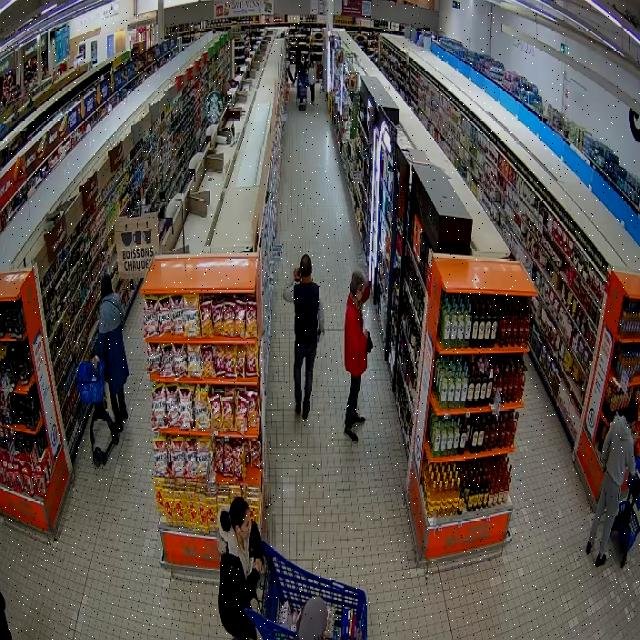article: (317, 332, 324, 343)
hands: (254, 558, 262, 573), (293, 268, 300, 281), (93, 355, 99, 368), (364, 329, 369, 340), (317, 329, 325, 335)
person: (586, 401, 638, 566), (283, 255, 324, 418), (219, 497, 262, 639), (94, 274, 129, 431), (345, 271, 370, 443)
